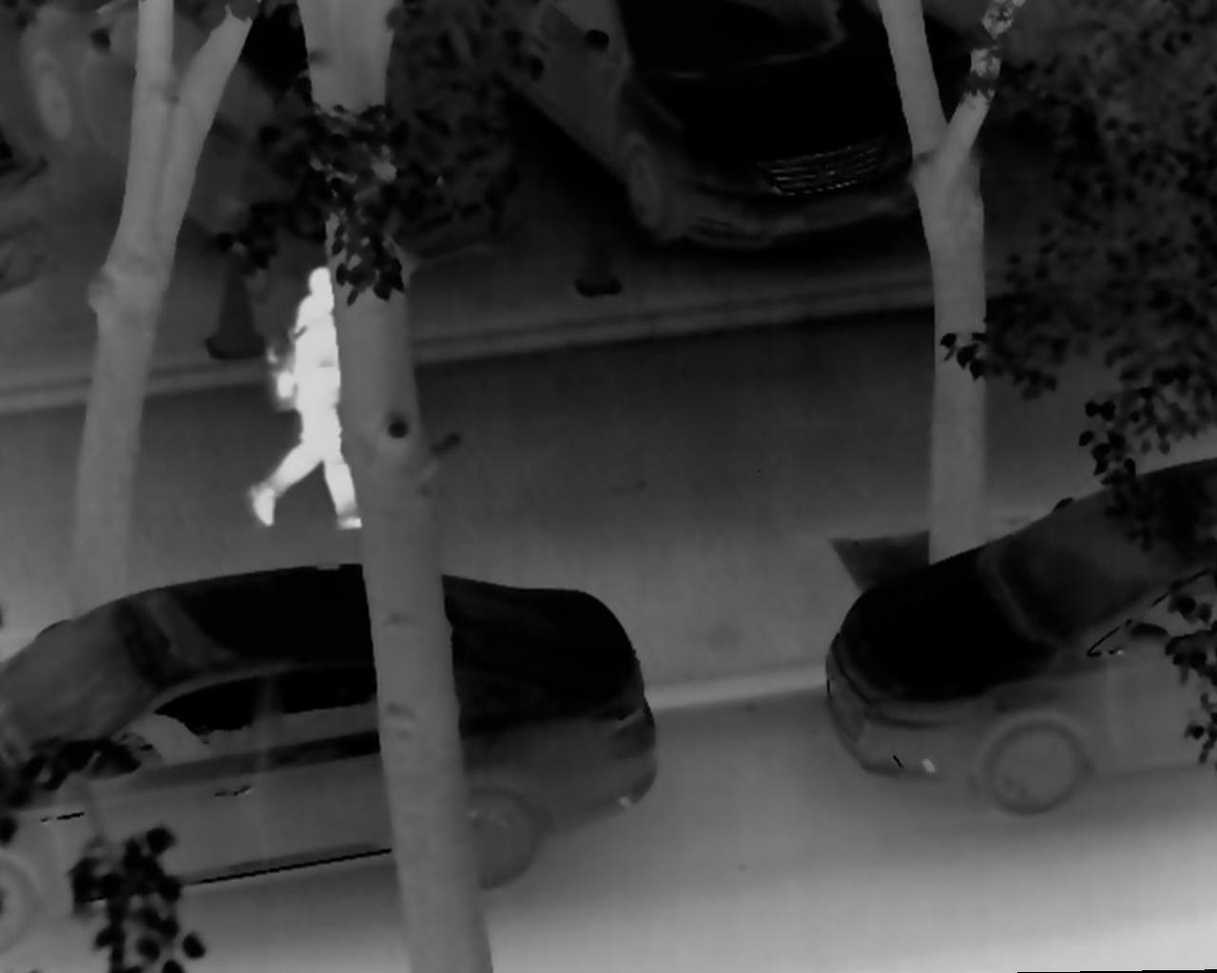person: (245, 261, 379, 535)
